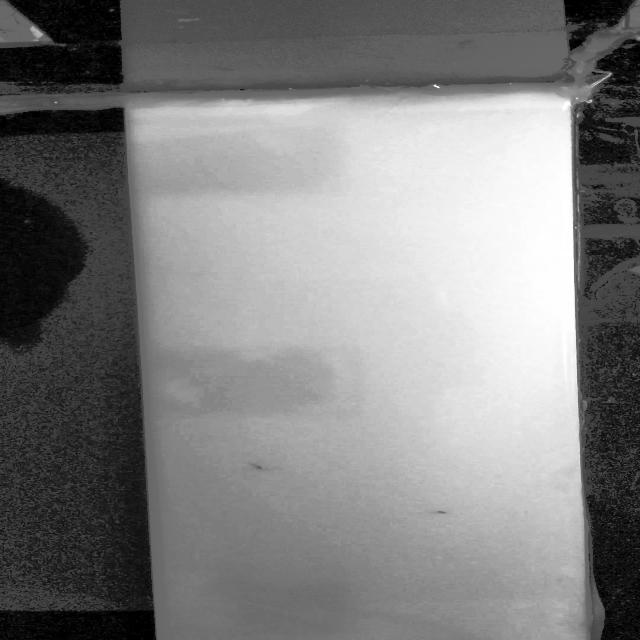shrimp: (243, 460, 270, 473), (428, 507, 461, 516)
